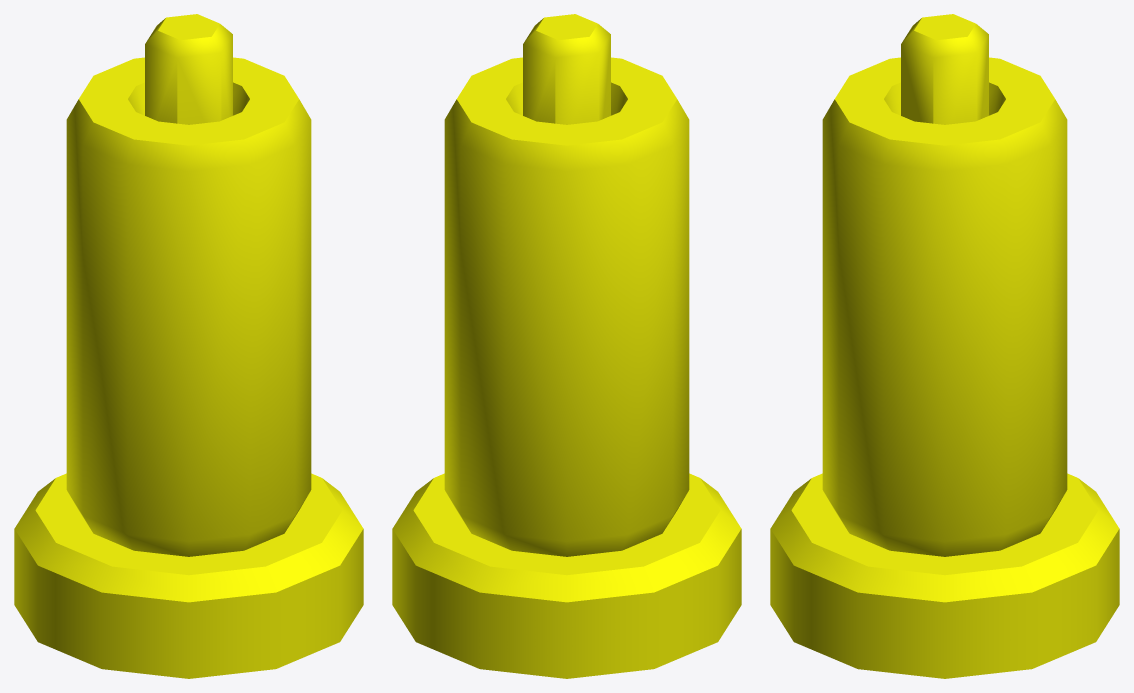
The model's file is kaykit-papertowel.glb.
3 renders of one model, left to right at view 1: azimuth 30°, elevation 25°; view 2: azimuth 150°, elevation 25°; view 3: azimuth 270°, elevation 25°, orthographic.
Parts seen in each view (by area): view 1: papertowel; view 2: papertowel; view 3: papertowel.
Boxes of the visible parts, left/top/right/bottom form: papertowel: left=14, top=14, right=363, bottom=678; papertowel: left=392, top=14, right=741, bottom=678; papertowel: left=770, top=14, right=1119, bottom=678.
Size of the model in its own units: 0.5 by 0.9138 by 0.5.
